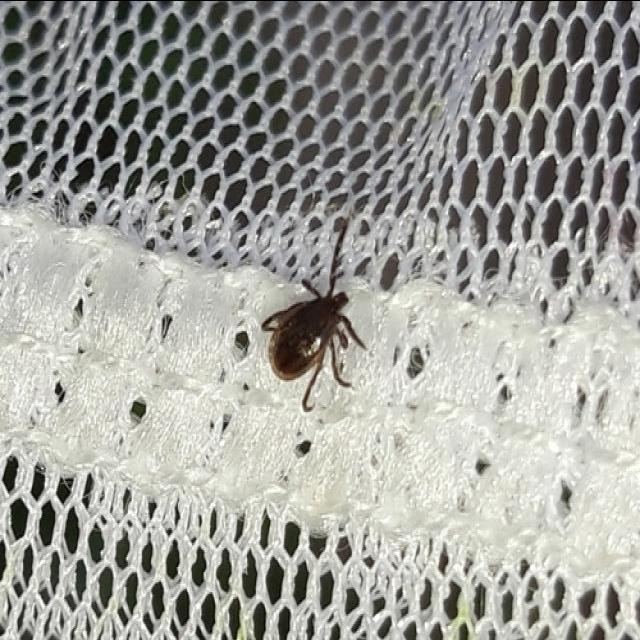Ixodes Ricinus-M: (260, 214, 366, 413)
